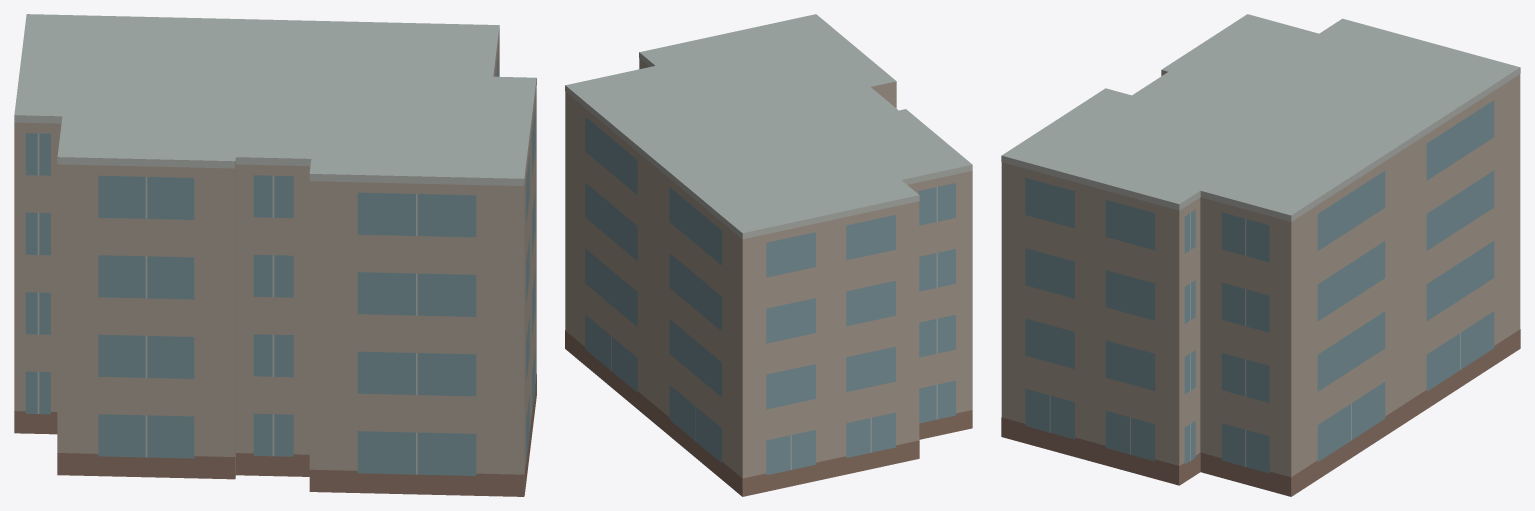
The model's file is survey-upis-32791835.glb.
The picture shows the model from 3 angles, left to right: view 1: azimuth 30°, elevation 25°; view 2: azimuth 150°, elevation 25°; view 3: azimuth 270°, elevation 25°; orthographic projection. The views are drawn at different scales.
Parts seen in each view (by area): view 1: survey-upis-32791835.tmp; view 2: survey-upis-32791835.tmp; view 3: survey-upis-32791835.tmp.
Boxes of the visible parts, x1=… form: survey-upis-32791835.tmp: x1=14, y1=14, x2=536, y2=496; survey-upis-32791835.tmp: x1=565, y1=14, x2=972, y2=496; survey-upis-32791835.tmp: x1=1001, y1=14, x2=1520, y2=496.
Size of the model in its own units: 16.29 by 10.6 by 17.73.
